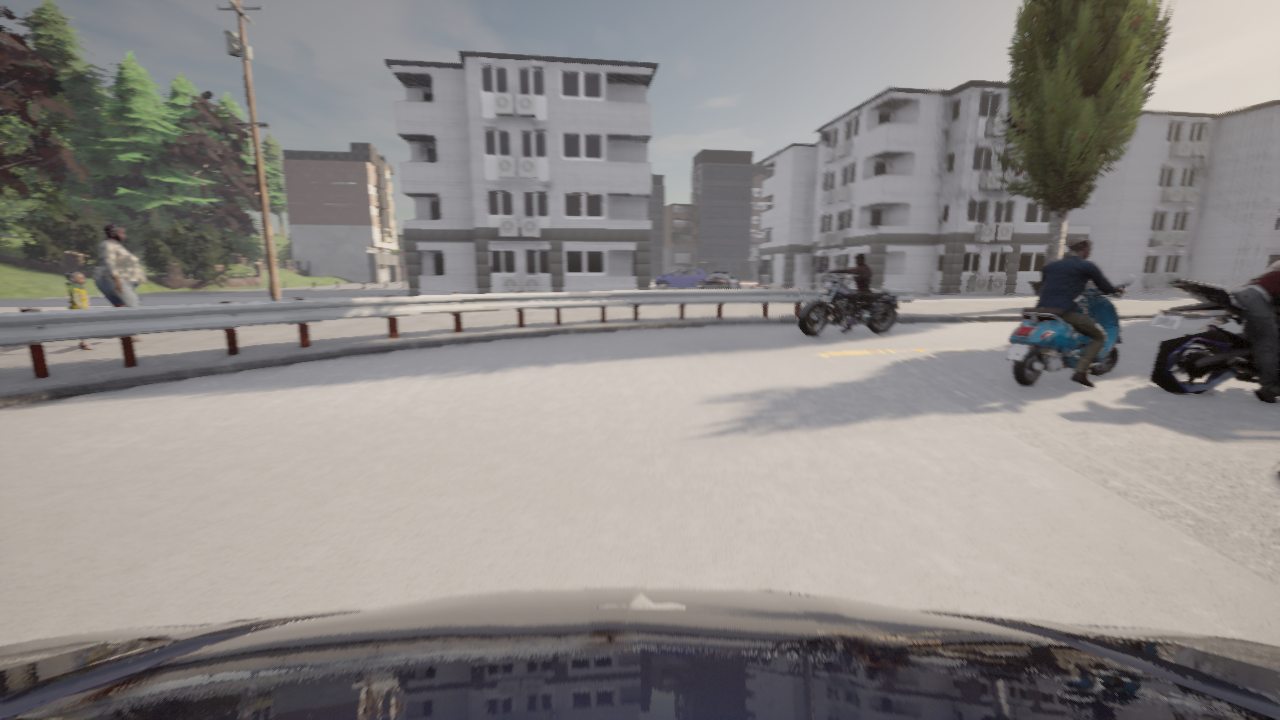cyclist: (0, 588, 1279, 719), (1147, 278, 1279, 393), (1007, 274, 1134, 385), (798, 269, 898, 335), (654, 268, 706, 289), (700, 271, 740, 289), (701, 279, 724, 281)
pedestrian: (92, 224, 146, 342), (65, 271, 97, 350)
